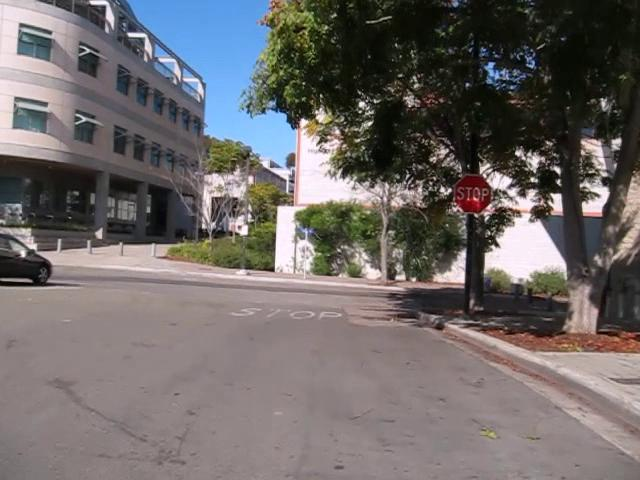stop: (452, 173, 492, 214)
